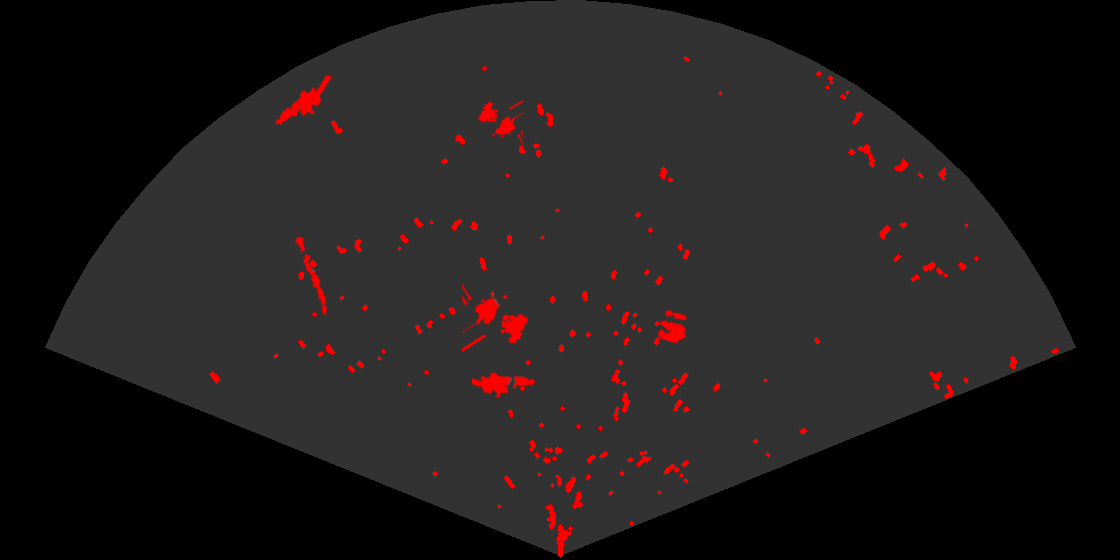ball: (656, 308, 689, 345)
cage: (462, 282, 530, 354), (476, 99, 523, 147)
chain: (293, 229, 329, 317)
frogman: (274, 76, 331, 127), (472, 370, 537, 400)
